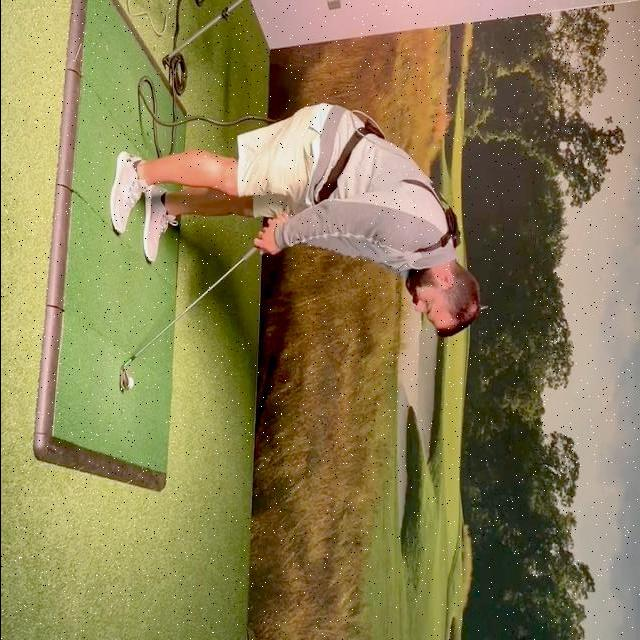golf ball: (128, 376, 133, 390)
golf club-handle: (116, 208, 295, 395)
golf club-head: (116, 366, 129, 394)
